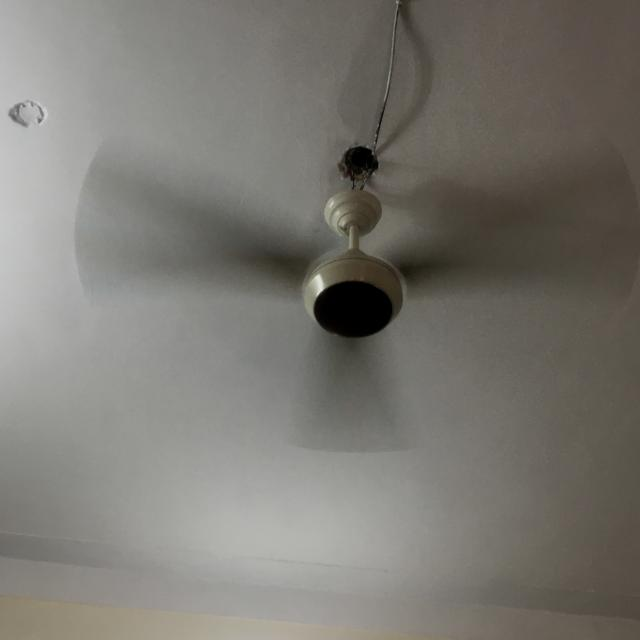on: (61, 122, 640, 461)
